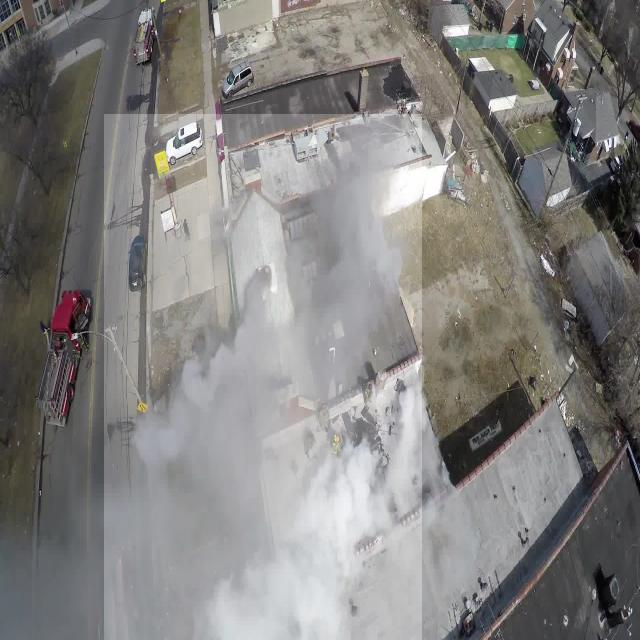Smoke: (105, 114, 422, 640)
